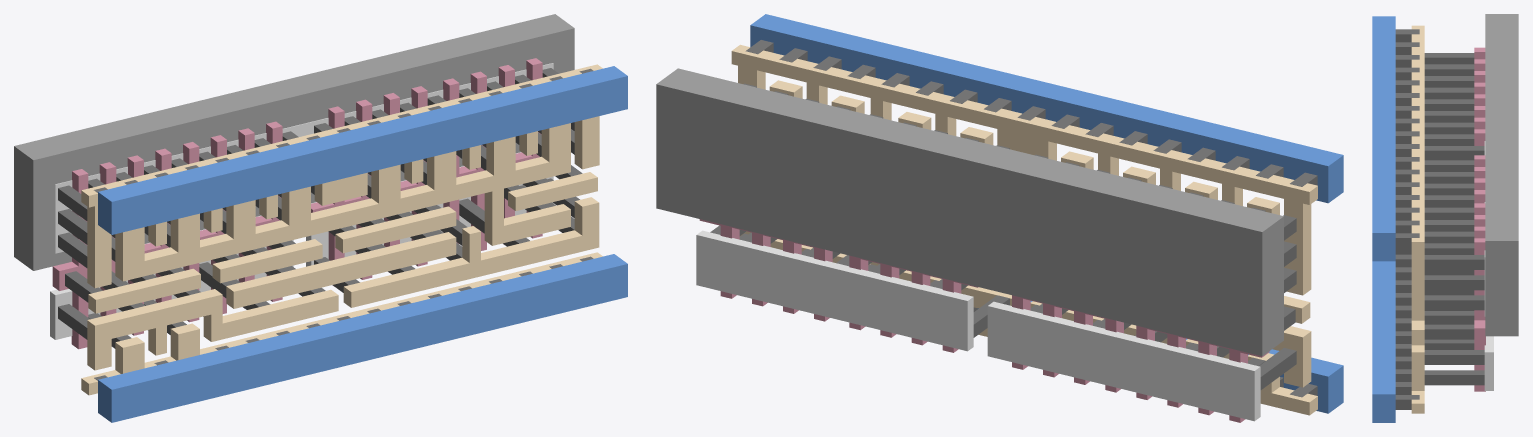
Rendered from sky130_fd_sc_hd__nand4_4.gds.gltf.
3 views of the same model, side by side, from view 1: azimuth 30°, elevation 25°; view 2: azimuth 150°, elevation 25°; view 3: azimuth 270°, elevation 25° (orthographic). The views are drawn at different scales.
Parts seen in each view (by area): view 1: sky130_fd_sc_hd__nand4_4_li1, sky130_fd_sc_hd__nand4_4_met1, sky130_fd_sc_hd__nand4_4_nwell, sky130_fd_sc_hd__nand4_4_licon, sky130_fd_sc_hd__nand4_4_poly, sky130_fd_sc_hd__nand4_4_diff, sky130_fd_sc_hd__nand4_4_mcon; view 2: sky130_fd_sc_hd__nand4_4_nwell, sky130_fd_sc_hd__nand4_4_diff, sky130_fd_sc_hd__nand4_4_li1, sky130_fd_sc_hd__nand4_4_met1, sky130_fd_sc_hd__nand4_4_poly, sky130_fd_sc_hd__nand4_4_mcon, sky130_fd_sc_hd__nand4_4_licon; view 3: sky130_fd_sc_hd__nand4_4_licon, sky130_fd_sc_hd__nand4_4_nwell, sky130_fd_sc_hd__nand4_4_met1, sky130_fd_sc_hd__nand4_4_mcon, sky130_fd_sc_hd__nand4_4_li1, sky130_fd_sc_hd__nand4_4_poly, sky130_fd_sc_hd__nand4_4_diff.
Part boxes in pixels (bbox=[...]): sky130_fd_sc_hd__nand4_4_li1: bbox=[81, 64, 602, 395]; sky130_fd_sc_hd__nand4_4_met1: bbox=[98, 66, 627, 422]; sky130_fd_sc_hd__nand4_4_nwell: bbox=[14, 14, 574, 270]; sky130_fd_sc_hd__nand4_4_licon: bbox=[58, 68, 582, 348]; sky130_fd_sc_hd__nand4_4_poly: bbox=[52, 58, 542, 349]; sky130_fd_sc_hd__nand4_4_diff: bbox=[50, 63, 553, 339]; sky130_fd_sc_hd__nand4_4_mcon: bbox=[94, 68, 593, 380]; sky130_fd_sc_hd__nand4_4_nwell: bbox=[656, 68, 1283, 356]; sky130_fd_sc_hd__nand4_4_diff: bbox=[696, 230, 1260, 421]; sky130_fd_sc_hd__nand4_4_li1: bbox=[731, 44, 1317, 415]; sky130_fd_sc_hd__nand4_4_met1: bbox=[750, 14, 1343, 413]; sky130_fd_sc_hd__nand4_4_poly: bbox=[699, 219, 1269, 422]; sky130_fd_sc_hd__nand4_4_mcon: bbox=[745, 40, 1317, 397]; sky130_fd_sc_hd__nand4_4_licon: bbox=[710, 83, 1296, 389]; sky130_fd_sc_hd__nand4_4_licon: bbox=[1424, 53, 1484, 385]; sky130_fd_sc_hd__nand4_4_nwell: bbox=[1485, 14, 1518, 336]; sky130_fd_sc_hd__nand4_4_met1: bbox=[1372, 16, 1395, 422]; sky130_fd_sc_hd__nand4_4_mcon: bbox=[1395, 29, 1419, 409]; sky130_fd_sc_hd__nand4_4_li1: bbox=[1411, 25, 1424, 413]; sky130_fd_sc_hd__nand4_4_poly: bbox=[1474, 47, 1485, 391]; sky130_fd_sc_hd__nand4_4_diff: bbox=[1484, 141, 1493, 390].
Bounding box in the file's own units: 8.2 × 3.2 × 2.24.
